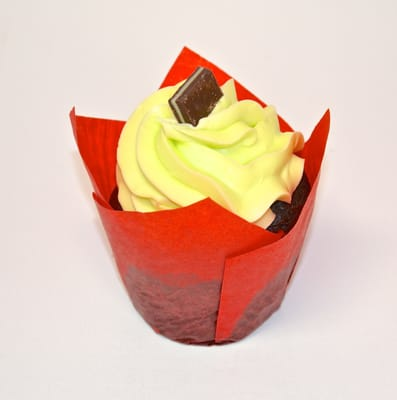pasta: (114, 66, 308, 222)
sushi: (60, 61, 335, 347)
